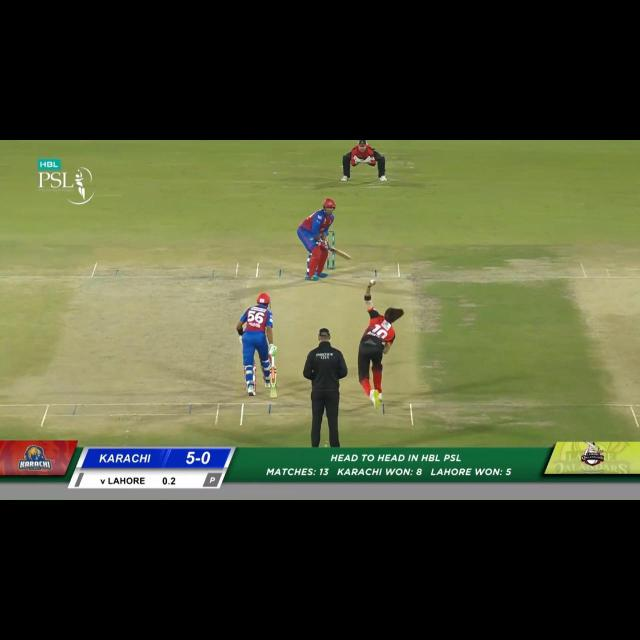bat: (328, 246, 351, 261), (268, 367, 278, 398)
toe: (269, 393, 278, 398), (348, 256, 352, 261)
